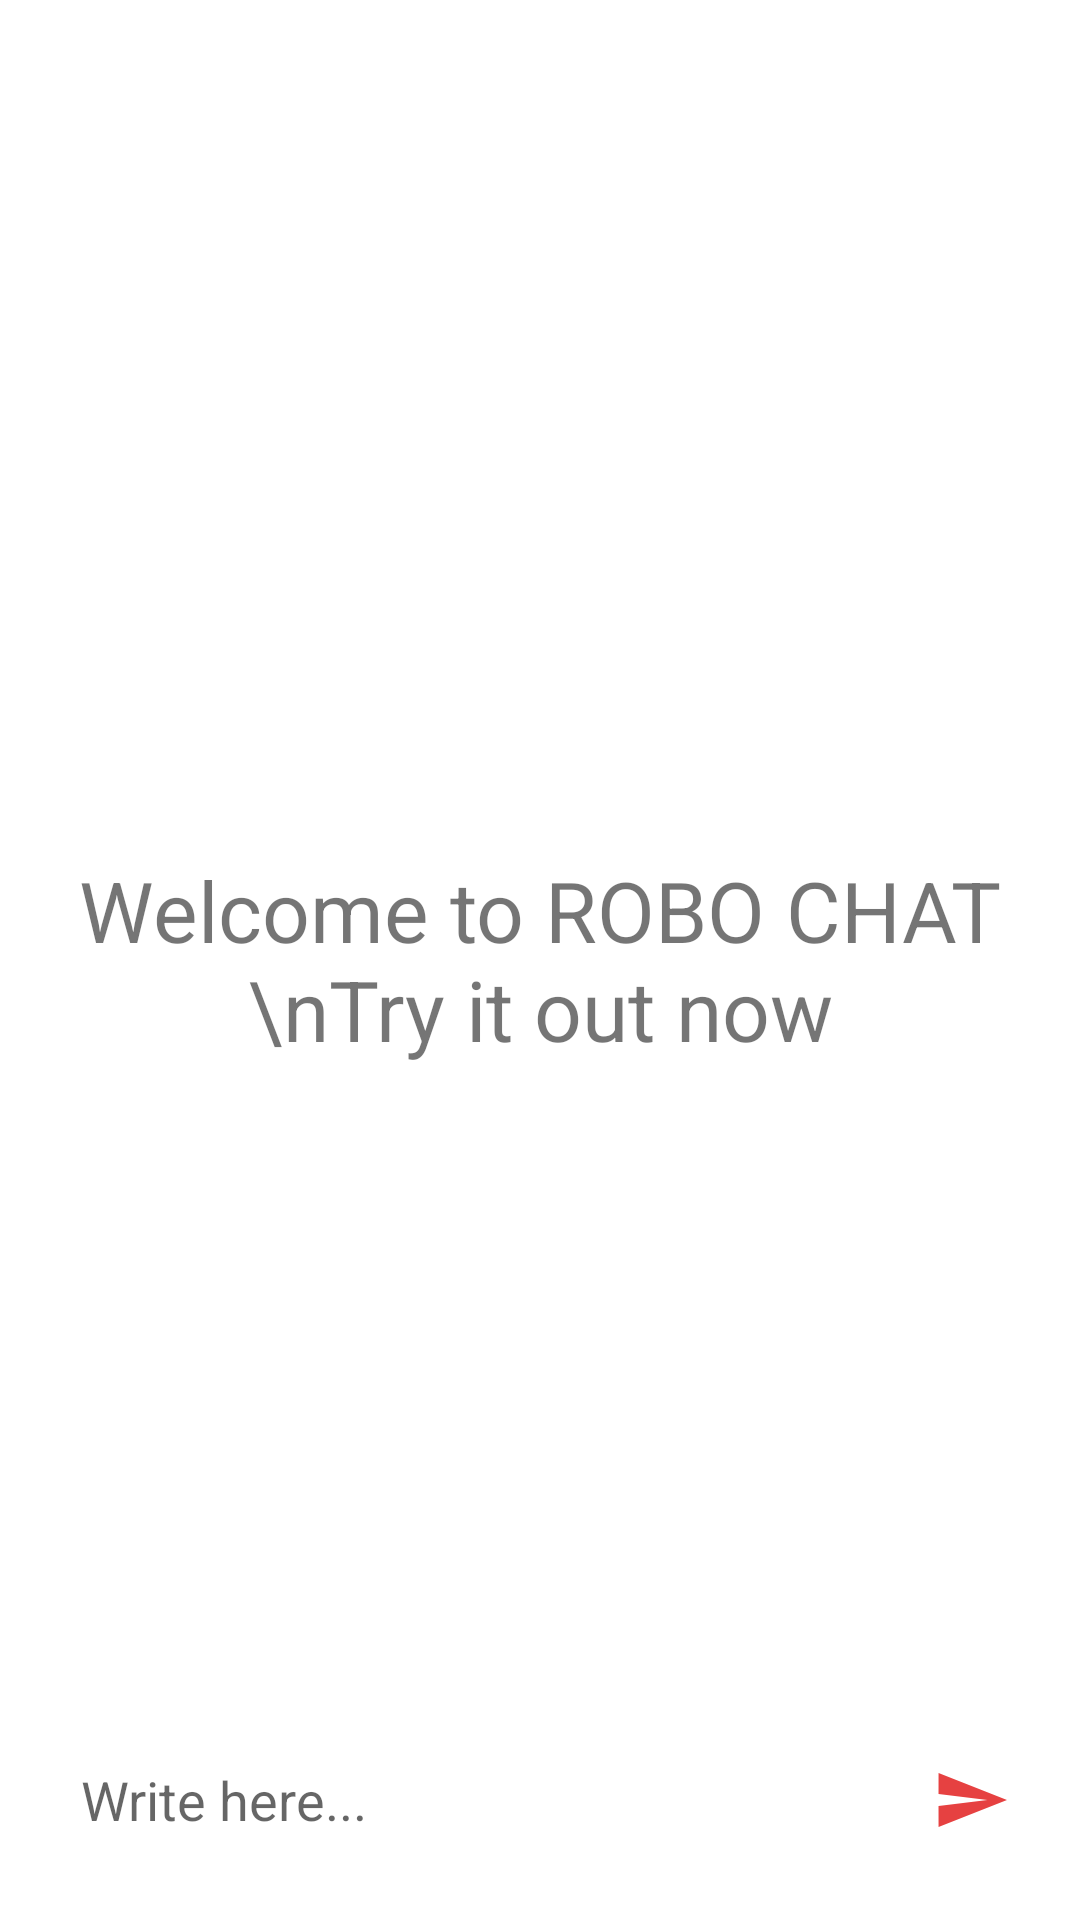

Named icons in this screenshot (1080 x 1920) and their centers, (x=x, y=y):
send: (x=972, y=1800)
